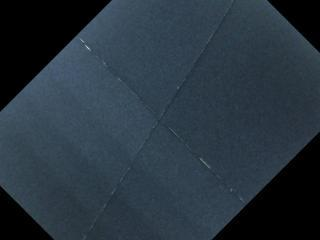crack: (81, 0, 238, 240), (74, 36, 247, 206)
